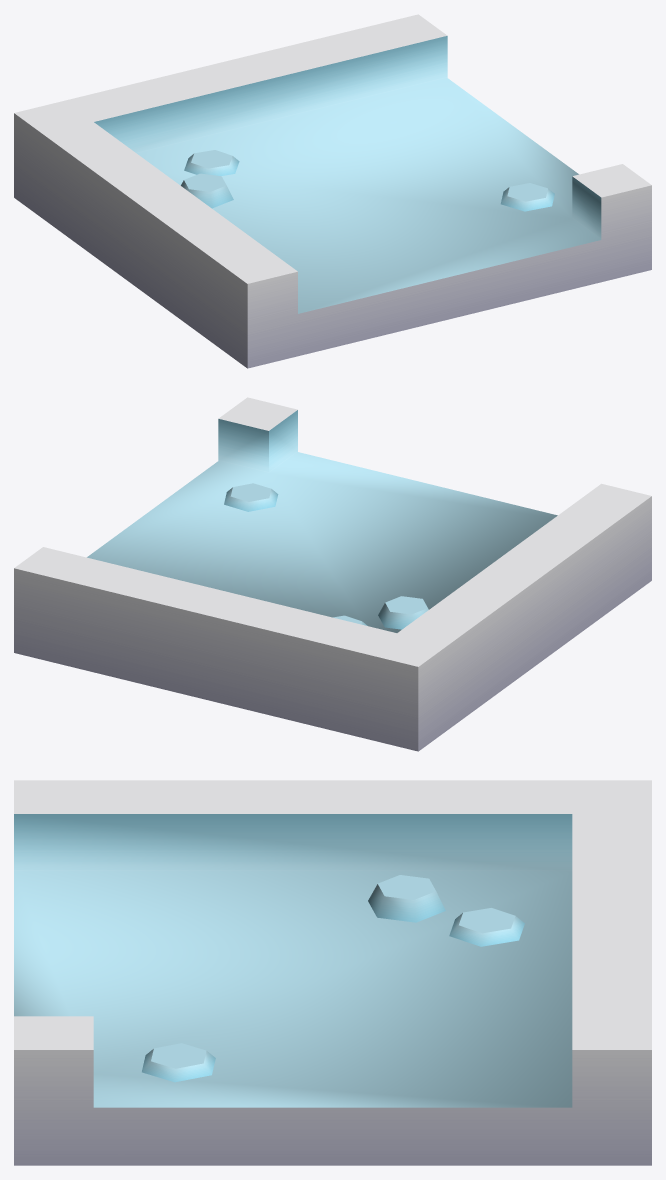
File: snow-tile-corner-square.fbx
3 views of the same model, one above another, from view 1: azimuth 30°, elevation 25°; view 2: azimuth 150°, elevation 25°; view 3: azimuth 270°, elevation 25° (orthographic). The views are drawn at different scales.
Parts seen in each view (by area): view 1: snow-tile-corner-square; view 2: snow-tile-corner-square; view 3: snow-tile-corner-square.
Part boxes in pixels (x1,y1,x2,y2): snow-tile-corner-square: [14, 14, 651, 368]; snow-tile-corner-square: [14, 397, 651, 751]; snow-tile-corner-square: [14, 780, 651, 1165].
Bounding box in the file's own units: 100 × 20 × 100.
